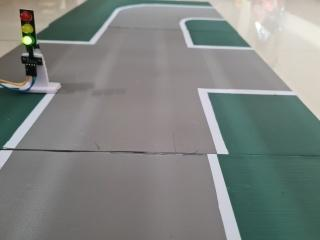green: (9, 3, 46, 62)
